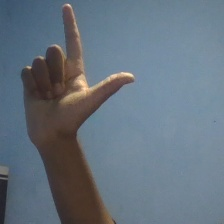L: (17, 1, 137, 145)
